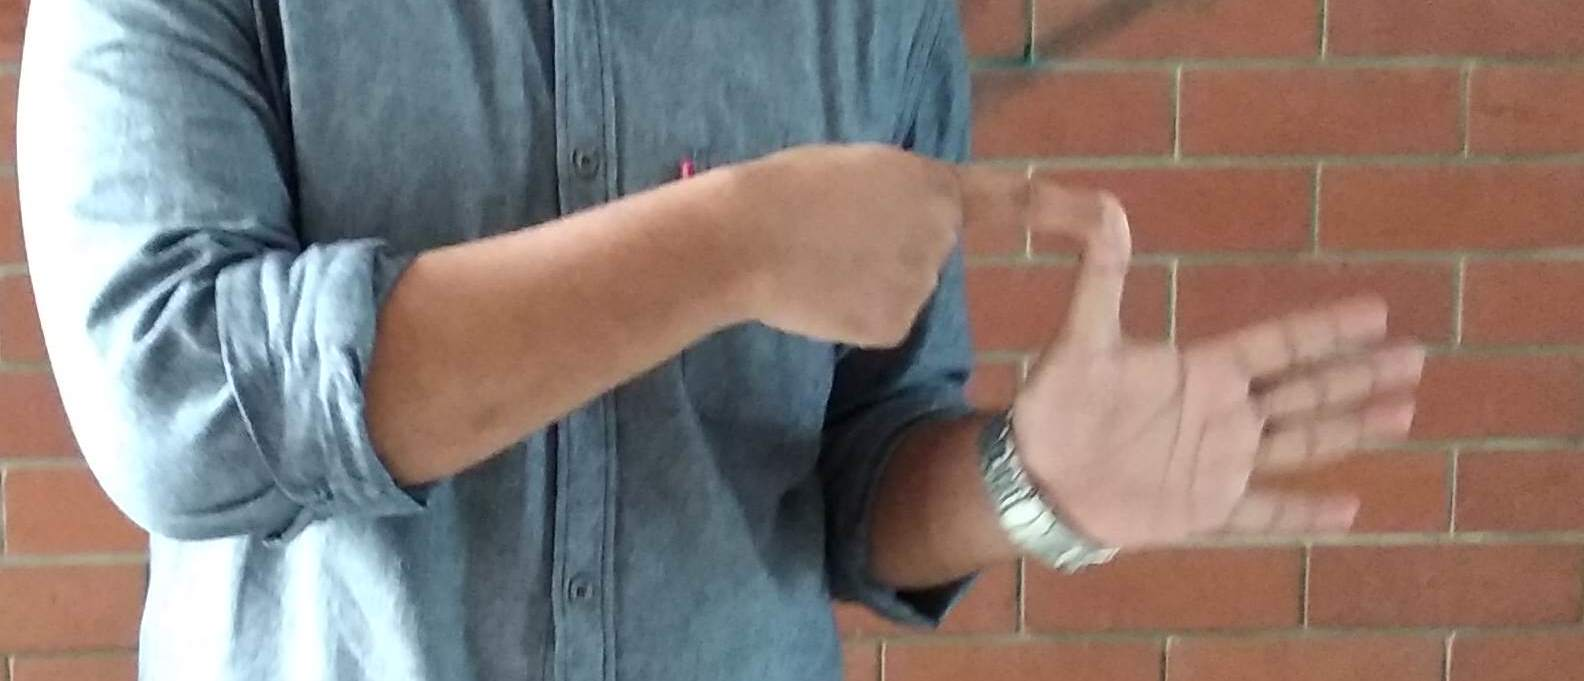a: (786, 123, 1405, 578)
